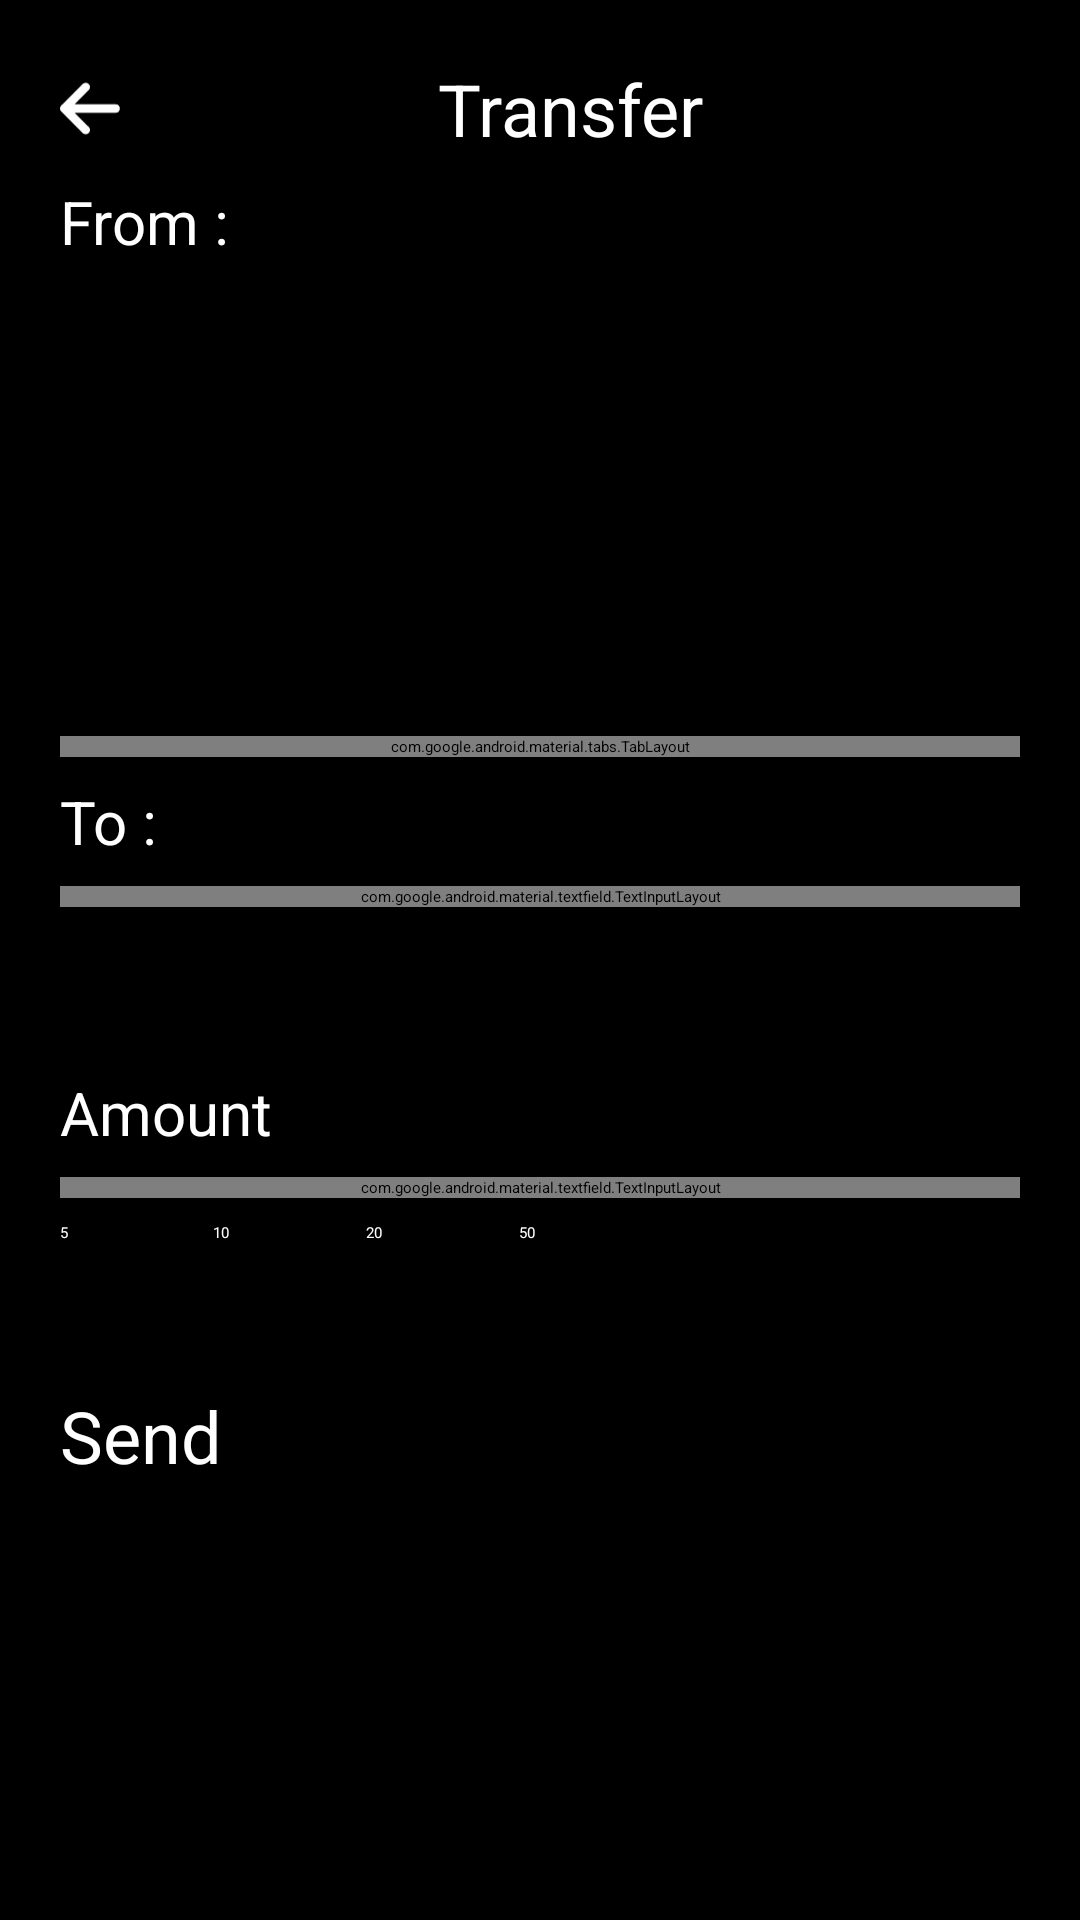

Where to tap for icons on this 1080 × 1920 app screen, as point (x, y):
back: point (90, 108)
